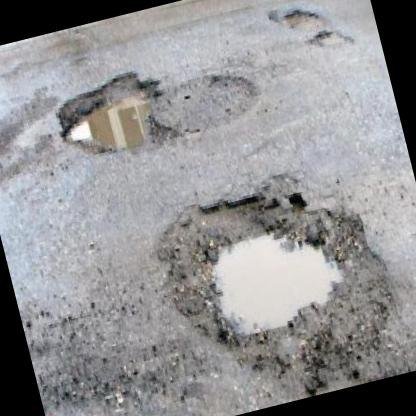pothole: (145, 155, 414, 416), (47, 59, 184, 169), (265, 0, 324, 41), (307, 22, 356, 56)
